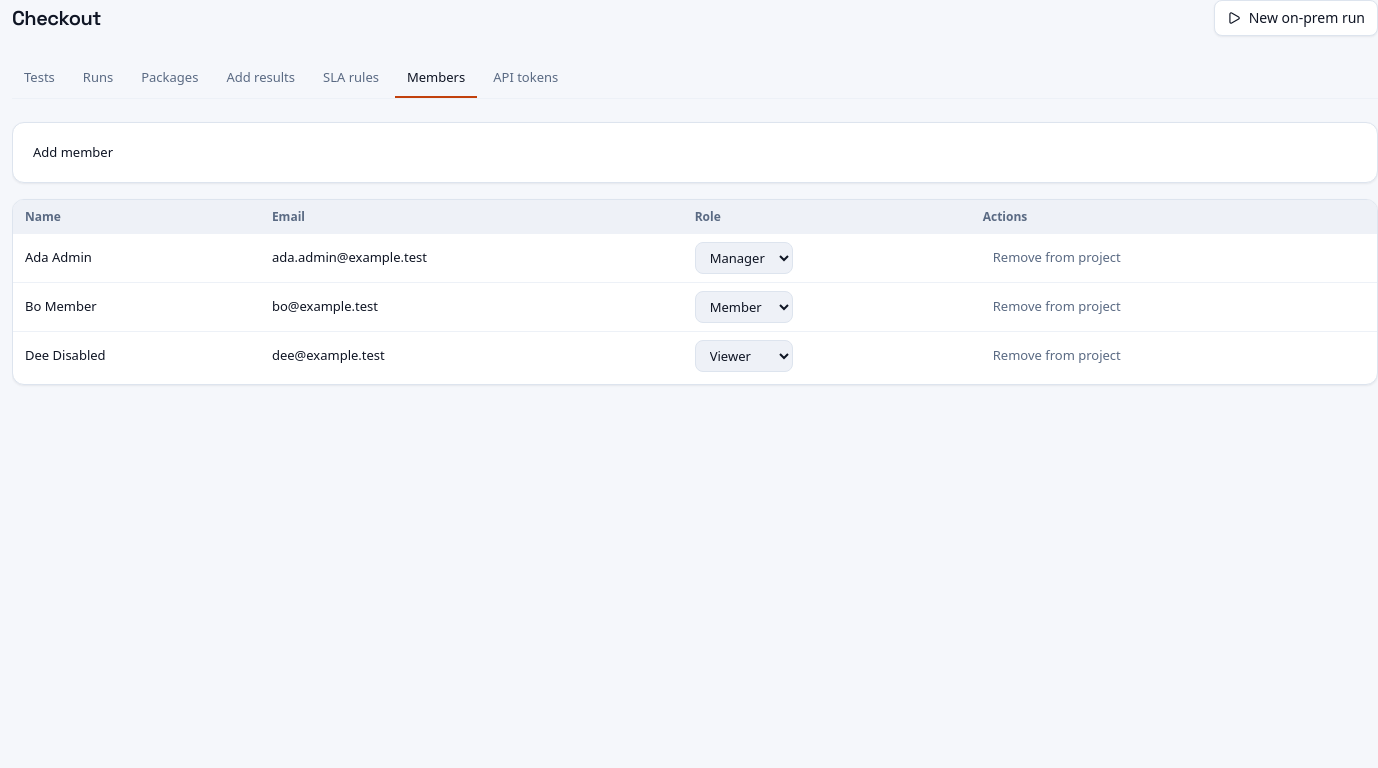
it: ProjectMembers — an admin › says in the API’s own words why nobody can be offered, when the accounts could not be listed
Click the heading "Add member" at (73, 152), box [33, 142, 113, 160]
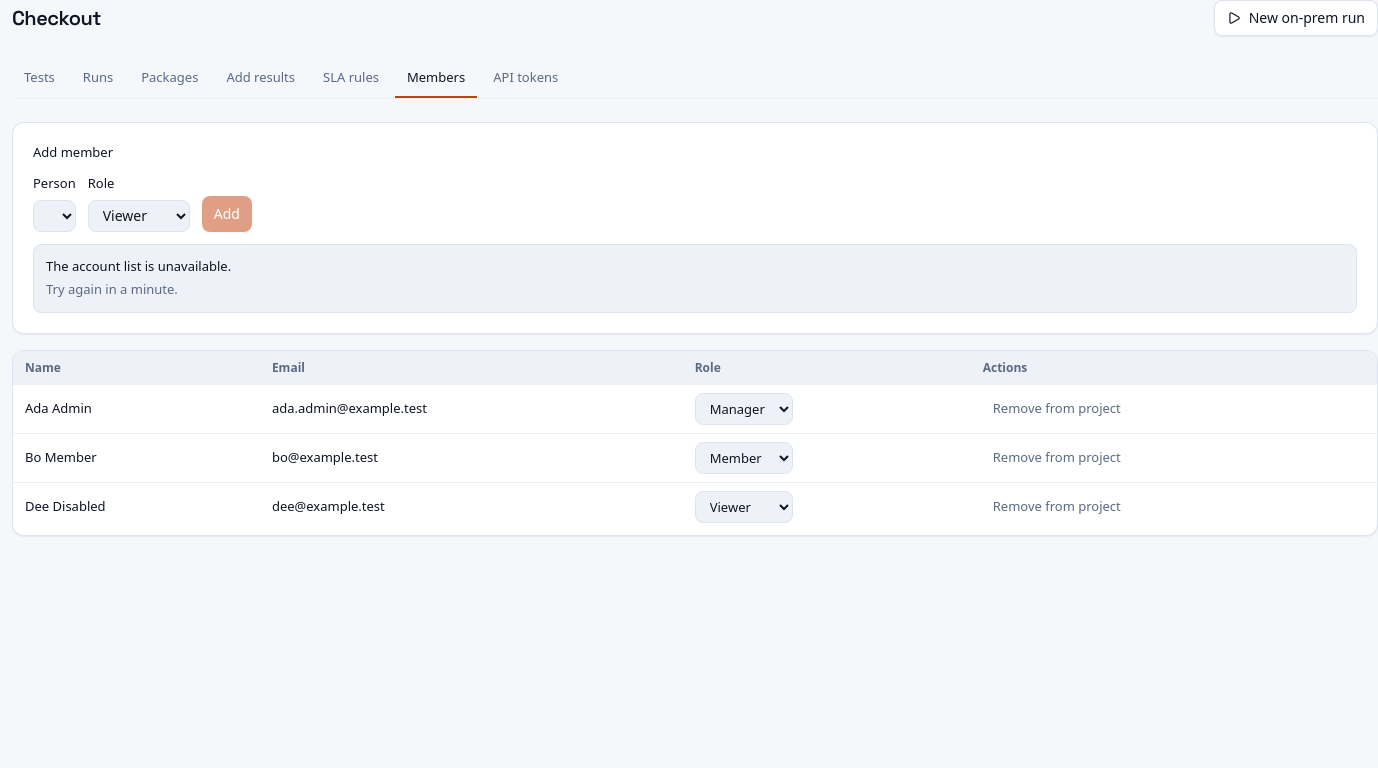
Expected: the message shows "The account list is unavailable.", [46, 256, 231, 274]
Expected: the message shows "Try again in a minute.", [46, 280, 178, 298]
Expected: the button "Add" is disabled, [202, 196, 252, 232]
